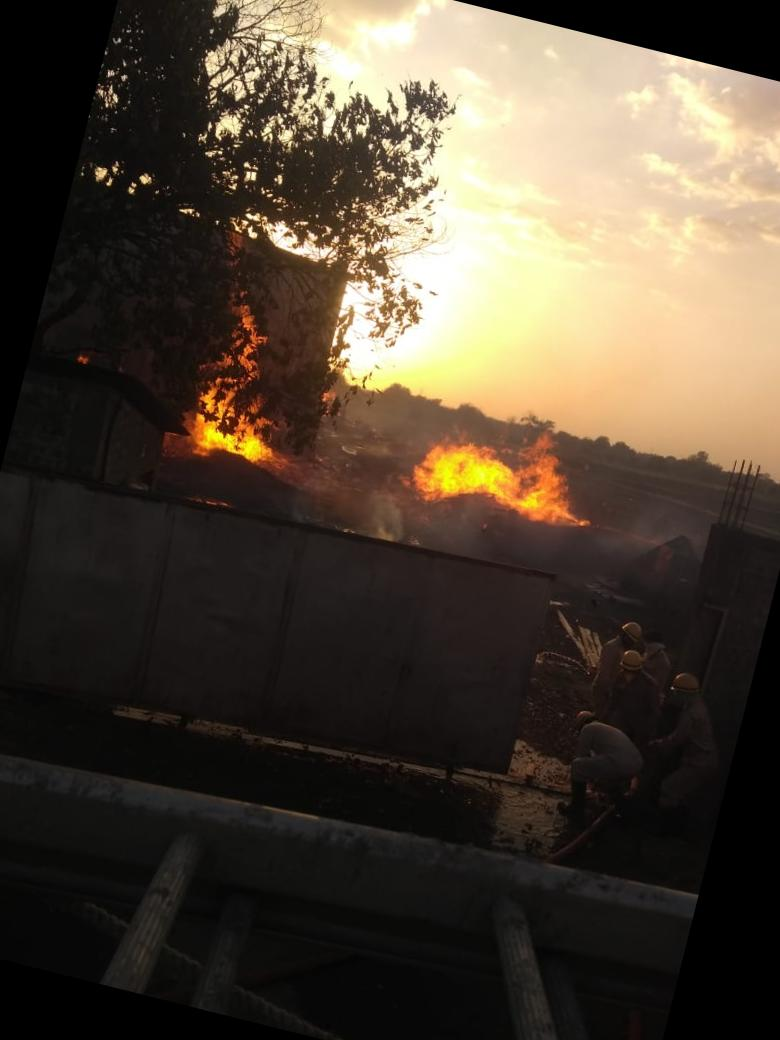Fire: (399, 402, 610, 542), (176, 292, 314, 475)
